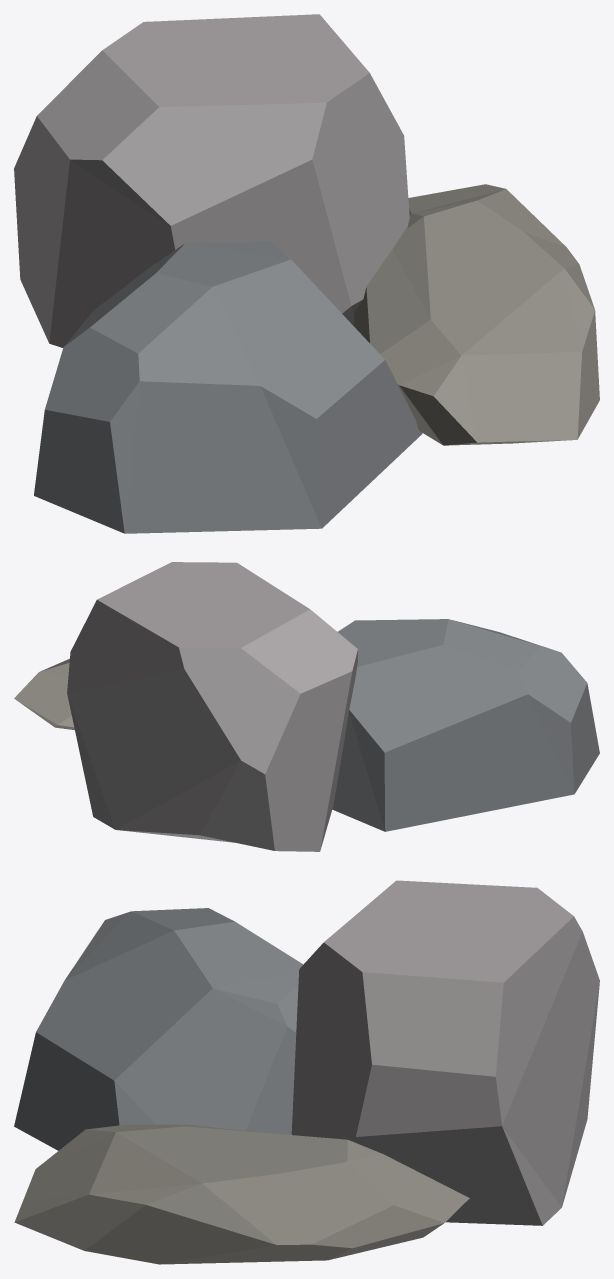
File: Rocks_Round_m_01.fbx
The picture shows the model from 3 angles, top to bottom: view 1: azimuth 30°, elevation 25°; view 2: azimuth 150°, elevation 25°; view 3: azimuth 270°, elevation 25°; orthographic projection. The views are drawn at different scales.
Visible parts, largest first — view 1: Rocks_Round_m_01; view 2: Rocks_Round_m_01; view 3: Rocks_Round_m_01.
Boxes of the visible parts, box(x1,y1,x2,y2) form: Rocks_Round_m_01: box(14, 14, 599, 533); Rocks_Round_m_01: box(14, 562, 599, 851); Rocks_Round_m_01: box(14, 880, 599, 1264).
Bounding box in the file's own units: 1.97 × 0.8556 × 1.73.
